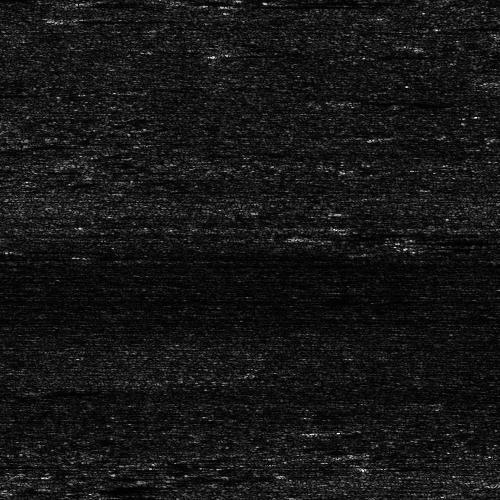object: (36, 0, 109, 7), (214, 0, 277, 5), (486, 137, 500, 146), (480, 79, 500, 84)
shadow: (246, 0, 458, 5), (73, 0, 152, 7), (73, 16, 190, 19)
